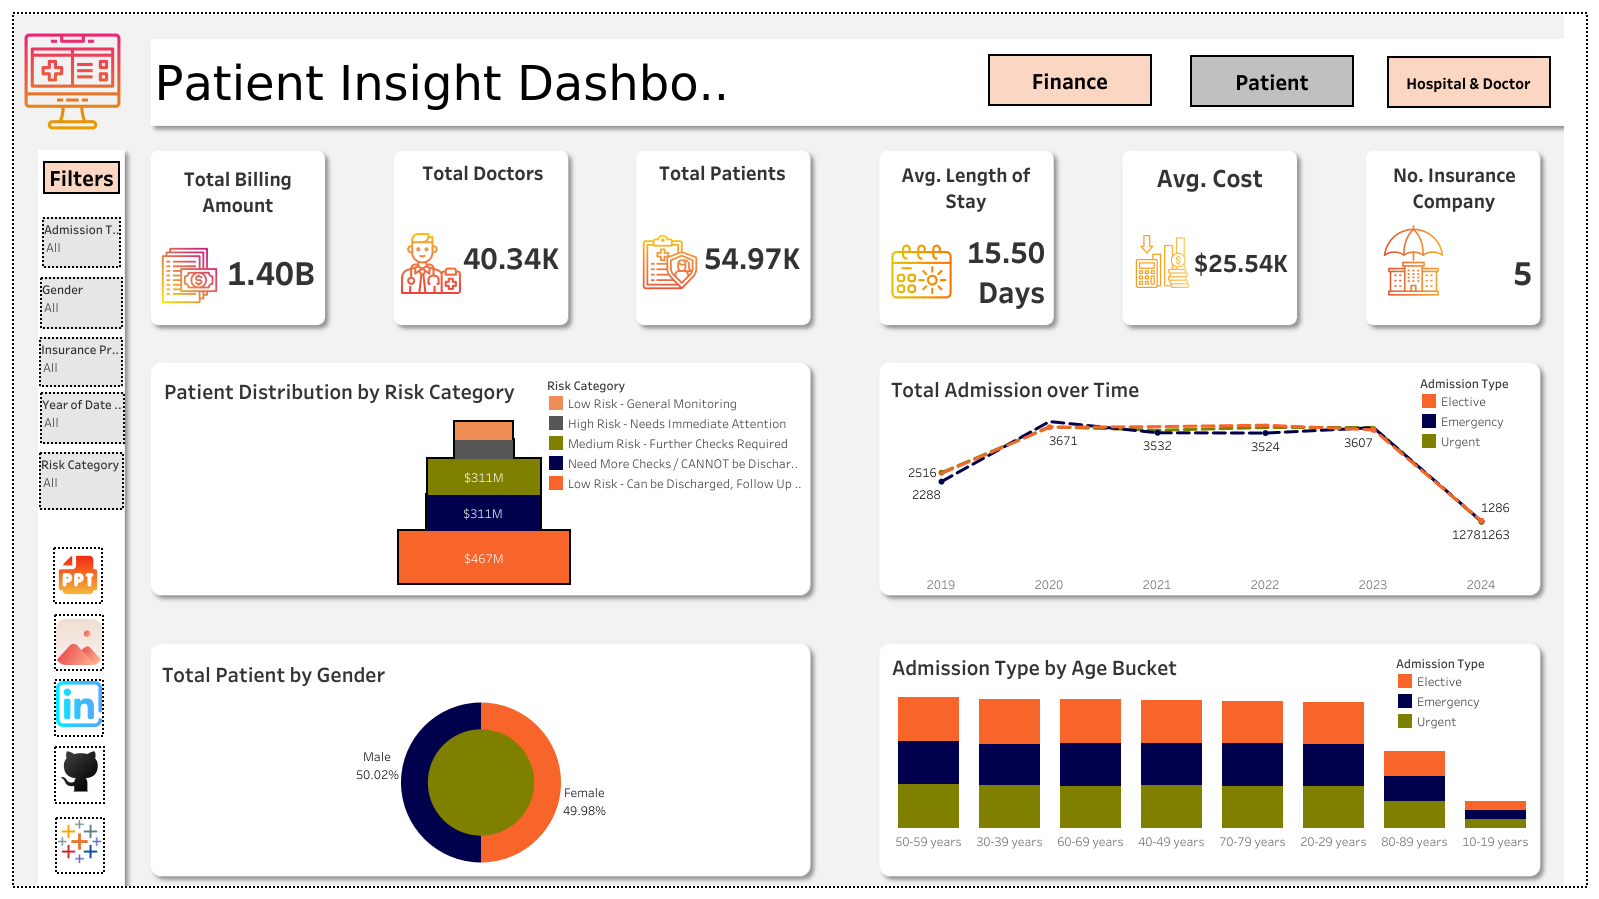

The dashboard page shown, as its layout file describes it:
{"tool":"tableau","page":{"name":"Patient Dashboard","canvas":[1600,900],"ordinal":2},"visuals":[{"type":"image","param":"Image/Presentation_HEALTHCARE.jpg","box":[8,8,1584,884]},{"type":"image","param":"Image/online-appointment_7265730.png","box":[23,32,119,99]},{"type":"text","box":[135,33,782,96]},{"type":"dashboard-object","box":[863,38,201,78]},{"type":"dashboard-object","box":[1093,38,216,78]},{"type":"dashboard-object","box":[1337,38,216,78]},{"type":"worksheet","title":"No. Insurance Company","mark":"Automatic","box":[1372,155,165,167]},{"type":"worksheet","title":"Total Billing Amount","mark":"Automatic","box":[280,156,164,152]},{"type":"worksheet","title":"Total Doctors","mark":"Automatic","box":[502,157,167,169]},{"type":"worksheet","title":"Avg. Cost","mark":"Automatic","box":[1164,157,164,167]},{"type":"worksheet","title":"Total Patients","mark":"Automatic","box":[719,158,171,170]},{"type":"worksheet","title":"Avg. Length of Stay","mark":"Automatic","box":[939,159,167,166]},{"type":"text","box":[49,166,178,55]},{"type":"image","param":"Image/insurance-company_11184030.png","box":[1376,223,81,75]},{"type":"image","param":"Image/doctor_3671120.png","box":[498,228,55,85]},{"type":"image","param":"Image/clipboard_3576805.png","box":[719,232,58,82]},{"type":"image","param":"Image/calendar_16964228.png","box":[941,232,69,93]},{"type":"image","param":"Image/budget_14431365.png","box":[1160,234,57,72]},{"type":"image","param":"Image/money_3379417.png","box":[280,244,59,82]},{"type":"filter","title":"Avg. Cost","param":"[federated.1or61521bt9pdb13ihx3r1wnd5m3].[none:Admission_Type:nk]","box":[53,257,175,47]},{"type":"filter","title":"Avg. Cost","param":"[federated.1or61521bt9pdb13ihx3r1wnd5m3].[none:Gender:nk]","box":[54,341,172,52]},{"type":"legend","title":"Patient Distribution by Risk Category","param":"[federated.1or61521bt9pdb13ihx3r1wnd5m3].[none:Risk_Category:nk]","box":[649,378,246,151]},{"type":"worksheet","title":"Patient Distribution by Risk Category","mark":"Automatic","rows":["Healthcare_Dataset_Tableau.csv_831D8558E09F4903A49EC1E7E6A11"],"box":[273,380,620,213]},{"type":"worksheet","title":"Total Admission over Time","mark":"Automatic","rows":["Healthcare_Dataset_Tableau.csv_831D8558E09F4903A49EC1E7E6A11"],"cols":["Date_of_Admission"],"box":[940,380,614,218]},{"type":"legend","title":"Total Admission over Time","param":"[federated.1or61521bt9pdb13ihx3r1wnd5m3].[none:Admission_Type:nk]","box":[1419,384,140,78]},{"type":"filter","title":"Avg. Cost","param":"[federated.1or61521bt9pdb13ihx3r1wnd5m3].[none:Insurance_Provider:nk]","box":[52,432,176,50]},{"type":"filter","title":"Avg. Cost","param":"[federated.1or61521bt9pdb13ihx3r1wnd5m3].[yr:Date_of_Admission:ok]","box":[54,520,173,52]},{"type":"filter","title":"Avg. Cost","param":"[federated.1or61521bt9pdb13ihx3r1wnd5m3].[none:Risk_Category:nk]","box":[52,606,172,59]},{"type":"worksheet","title":"Admission Type by Age Bucket","mark":"Automatic","rows":["Healthcare_Dataset_Tableau.csv_831D8558E09F4903A49EC1E7E6A11"],"cols":["Age_Bucket"],"box":[940,640,617,215]},{"type":"worksheet","title":"Total Patient by Gender","mark":"Pie","rows":["Calculation_1072419722301489160","Calculation_1072419722301538314"],"box":[274,643,618,211]},{"type":"legend","title":"Total Patient by Gender","param":"[federated.1or61521bt9pdb13ihx3r1wnd5m3].[none:Gender:nk]","box":[807,643,140,58]},{"type":"legend","title":"Admission Type by Age Bucket","param":"[federated.1or61521bt9pdb13ihx3r1wnd5m3].[none:Admission_Type:nk]","box":[1467,645,140,78]},{"type":"image","param":"Image/download.png","box":[74,733,50,57]},{"type":"dashboard-object","box":[174,733,50,57]},{"type":"image","param":"Image/linkedin_1384171.png","box":[74,802,50,58]},{"type":"image","param":"Image/github_4926625.png","box":[175,806,51,58]}]}

Visuals, with their boxes in screenshot pixels (x1, y1, x2, y2), scaled from the page's 1600x900 canvas onto the 1599x899 screenshot:
image: (left=8, top=8, right=1591, bottom=891)
image: (left=23, top=32, right=142, bottom=131)
text: (left=135, top=33, right=916, bottom=129)
dashboard-object: (left=862, top=38, right=1063, bottom=116)
dashboard-object: (left=1092, top=38, right=1308, bottom=116)
dashboard-object: (left=1336, top=38, right=1552, bottom=116)
"No. Insurance Company" worksheet: (left=1371, top=155, right=1536, bottom=322)
"Total Billing Amount" worksheet: (left=280, top=156, right=444, bottom=308)
"Total Doctors" worksheet: (left=502, top=157, right=669, bottom=326)
"Avg. Cost" worksheet: (left=1163, top=157, right=1327, bottom=324)
"Total Patients" worksheet: (left=719, top=158, right=889, bottom=328)
"Avg. Length of Stay" worksheet: (left=938, top=159, right=1105, bottom=325)
text: (left=49, top=166, right=227, bottom=221)
image: (left=1375, top=223, right=1456, bottom=298)
image: (left=498, top=228, right=553, bottom=313)
image: (left=719, top=232, right=777, bottom=314)
image: (left=940, top=232, right=1009, bottom=325)
image: (left=1159, top=234, right=1216, bottom=306)
image: (left=280, top=244, right=339, bottom=326)
"Avg. Cost" filter: (left=53, top=257, right=228, bottom=304)
"Avg. Cost" filter: (left=54, top=341, right=226, bottom=393)
"Patient Distribution by Risk Category" legend: (left=649, top=378, right=894, bottom=528)
"Patient Distribution by Risk Category" worksheet: (left=273, top=380, right=892, bottom=592)
"Total Admission over Time" worksheet: (left=939, top=380, right=1553, bottom=597)
"Total Admission over Time" legend: (left=1418, top=384, right=1558, bottom=461)
"Avg. Cost" filter: (left=52, top=432, right=228, bottom=481)
"Avg. Cost" filter: (left=54, top=519, right=227, bottom=571)
"Avg. Cost" filter: (left=52, top=605, right=224, bottom=664)
"Admission Type by Age Bucket" worksheet: (left=939, top=639, right=1556, bottom=854)
"Total Patient by Gender" worksheet (Pie marks): (left=274, top=642, right=891, bottom=853)
"Total Patient by Gender" legend: (left=806, top=642, right=946, bottom=700)
"Admission Type by Age Bucket" legend: (left=1466, top=644, right=1598, bottom=722)
image: (left=74, top=732, right=124, bottom=789)
dashboard-object: (left=174, top=732, right=224, bottom=789)
image: (left=74, top=801, right=124, bottom=859)
image: (left=175, top=805, right=226, bottom=863)
